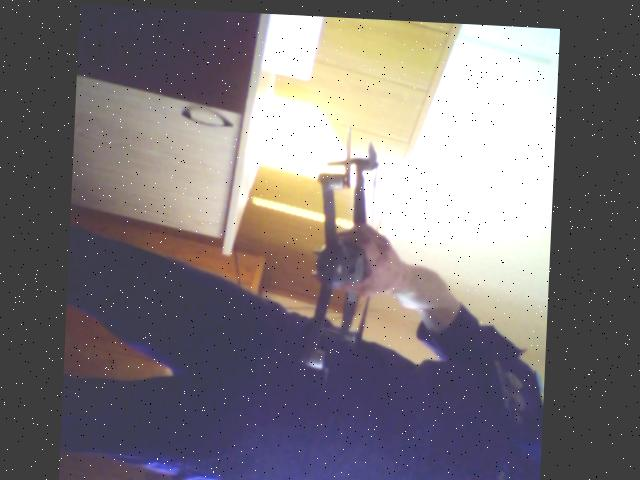drone: (292, 122, 417, 390)
